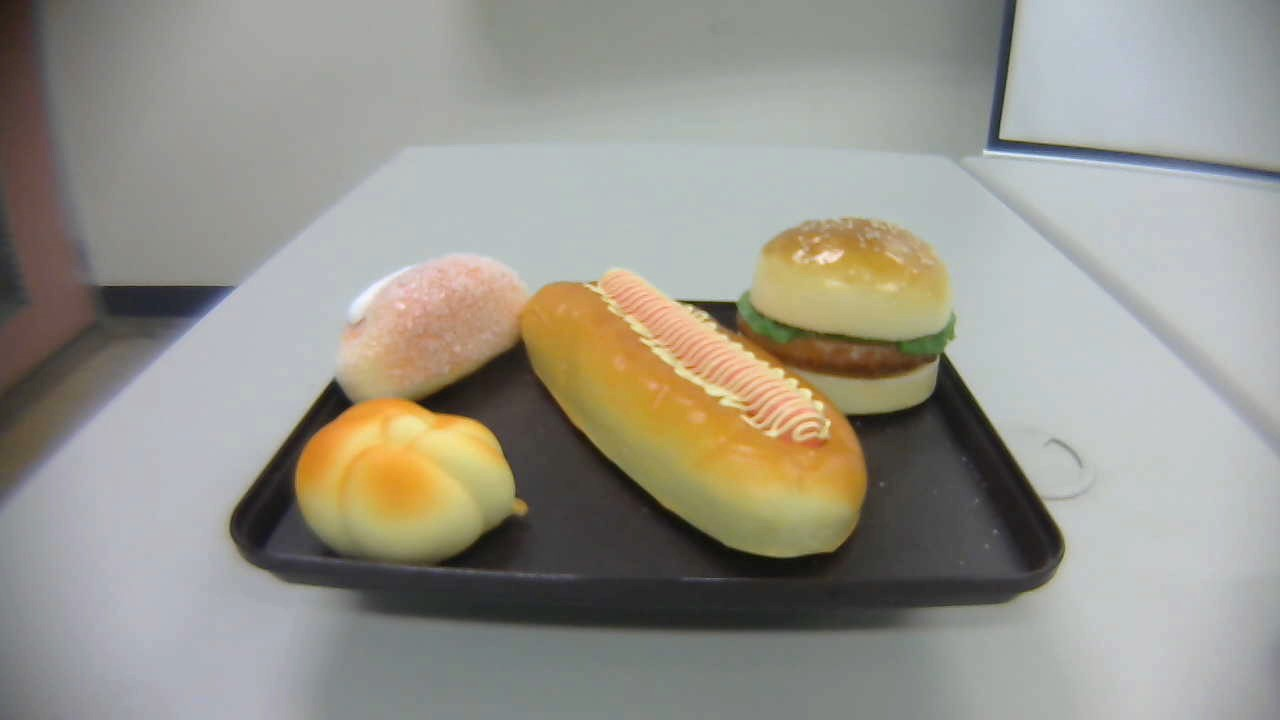coconut: (335, 253, 529, 404)
hamburger: (734, 216, 958, 416)
hot dog: (522, 268, 868, 559)
twist bread: (293, 398, 527, 570)
